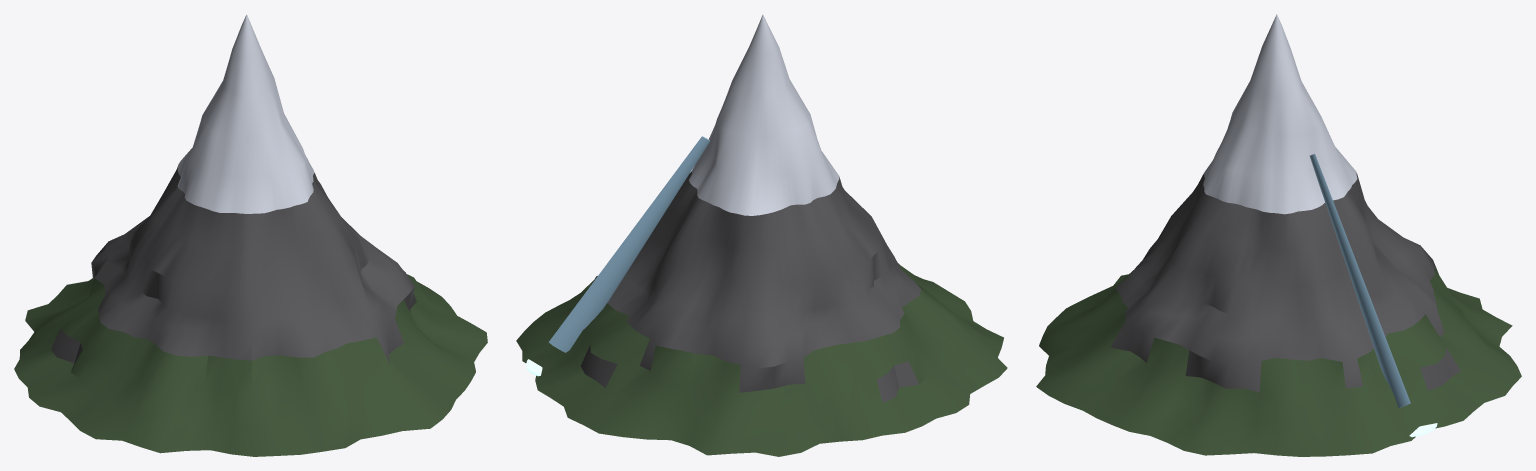
Rendered from ench_peak.fbx.
3 views of the same model, side by side, from view 1: azimuth 30°, elevation 25°; view 2: azimuth 150°, elevation 25°; view 3: azimuth 270°, elevation 25° (orthographic).
Parts seen in each view (by area): view 1: rockmoss_1, rock_1, snow_1; view 2: rockmoss_1, rock_1, snow_1, spray_1; view 3: rock_1, rockmoss_1, snow_1, spray_1.
Boxes of the visible parts, box(x1,y1,x2,y2) form: rockmoss_1: box(14, 274, 487, 456); rock_1: box(51, 166, 416, 369); snow_1: box(177, 14, 314, 213); rockmoss_1: box(516, 263, 1007, 456); rock_1: box(581, 171, 921, 402); snow_1: box(689, 14, 839, 215); spray_1: box(548, 136, 709, 352); rock_1: box(1110, 173, 1460, 392); rockmoss_1: box(1036, 268, 1521, 456); snow_1: box(1203, 14, 1357, 214); spray_1: box(1309, 154, 1410, 407).
Size of the model in its own units: 14.96 by 11.8 by 15.2.
